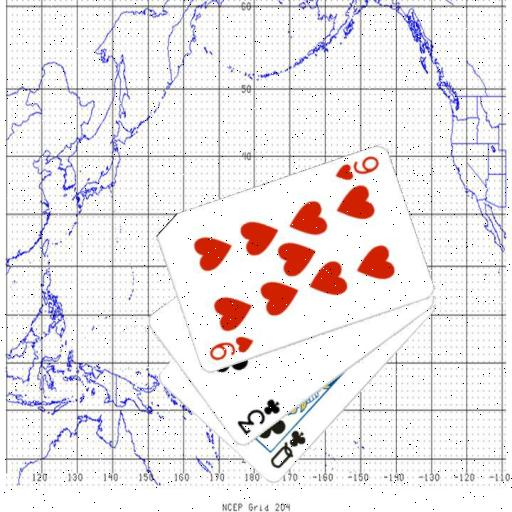3C: (234, 397, 282, 437)
9H: (206, 333, 255, 363), (332, 153, 381, 183)
QC: (267, 427, 308, 471)
